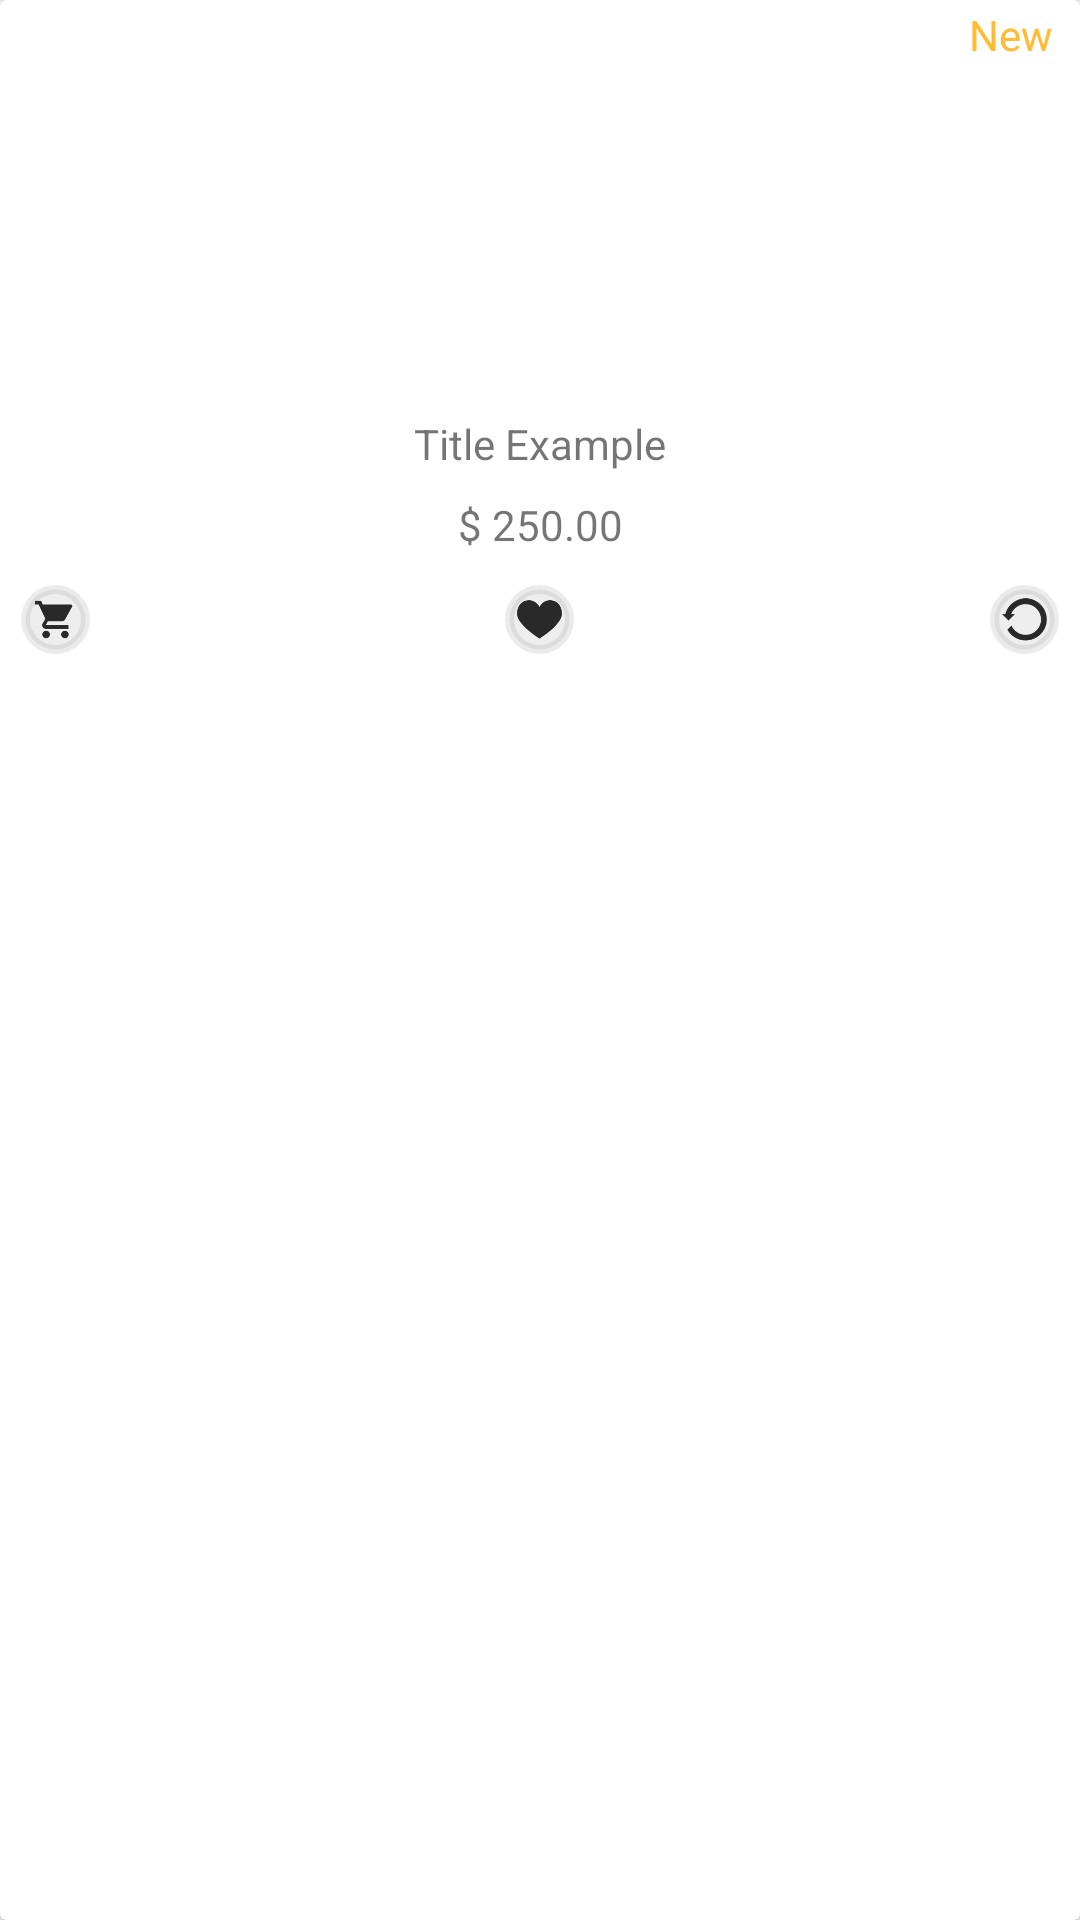

Where icons sit on this 1080px x 1920px app screen, as (x1, y1, x2, y2):
cart: (21, 585, 90, 654)
heart: (509, 589, 570, 650)
rotate: (990, 585, 1059, 654)
